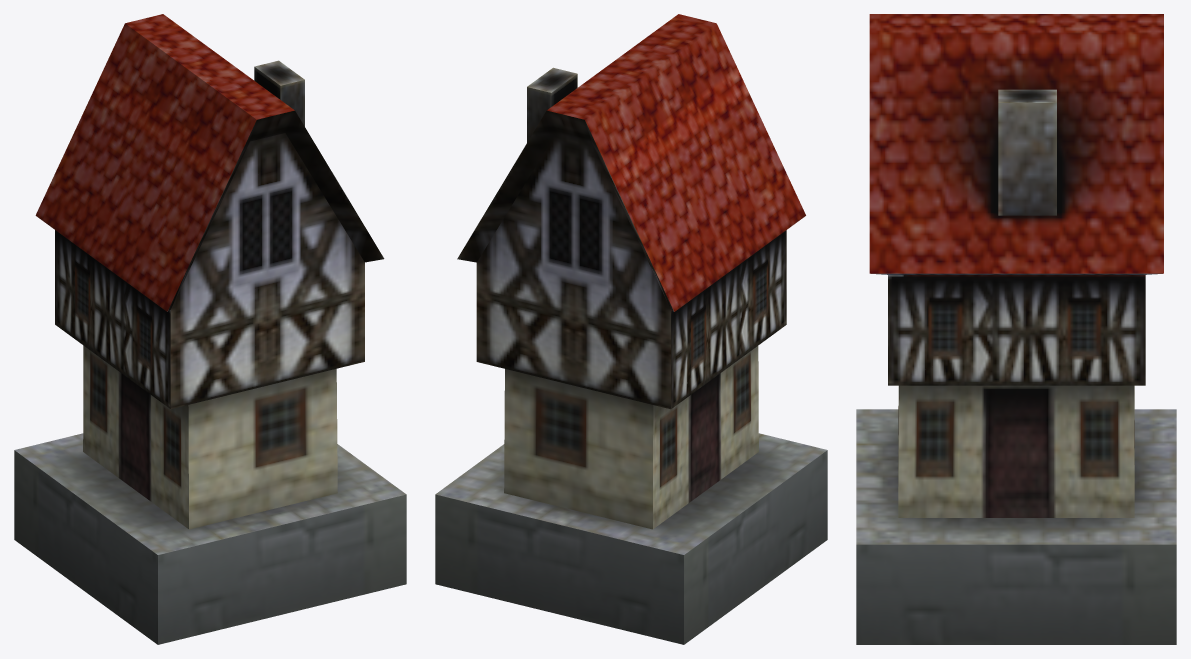
Rendered from med_tile_sml_red_hse.obj.
3 renders of one model, left to right at view 1: azimuth 30°, elevation 25°; view 2: azimuth 150°, elevation 25°; view 3: azimuth 270°, elevation 25°, orthographic. The views are drawn at different scales.
Visible parts, largest first — view 1: boundary_sml_red_house01; view 2: boundary_sml_red_house01; view 3: boundary_sml_red_house01.
Part boxes in pixels (box(x1,y1,x2,y2)): boundary_sml_red_house01: box(14, 14, 406, 644); boundary_sml_red_house01: box(435, 14, 827, 644); boundary_sml_red_house01: box(856, 14, 1176, 644).
Size of the model in its own units: 1 by 1.9 by 1.
Materials: 1 (1 with a texture image).
